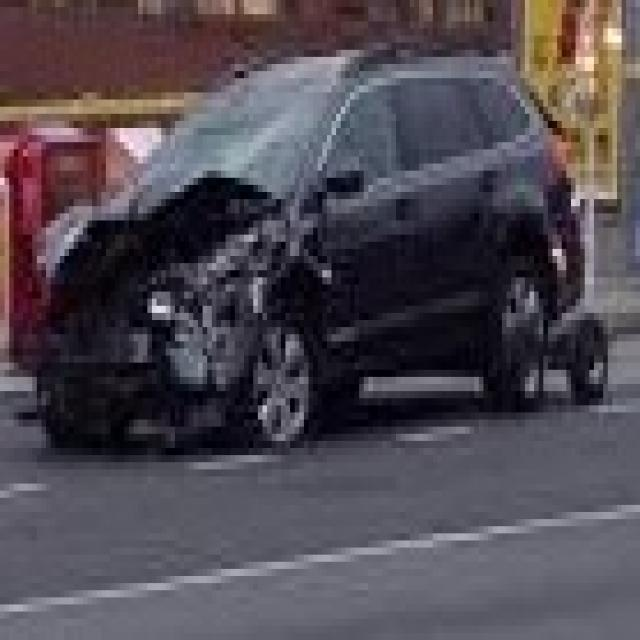minor: (36, 159, 340, 437)
